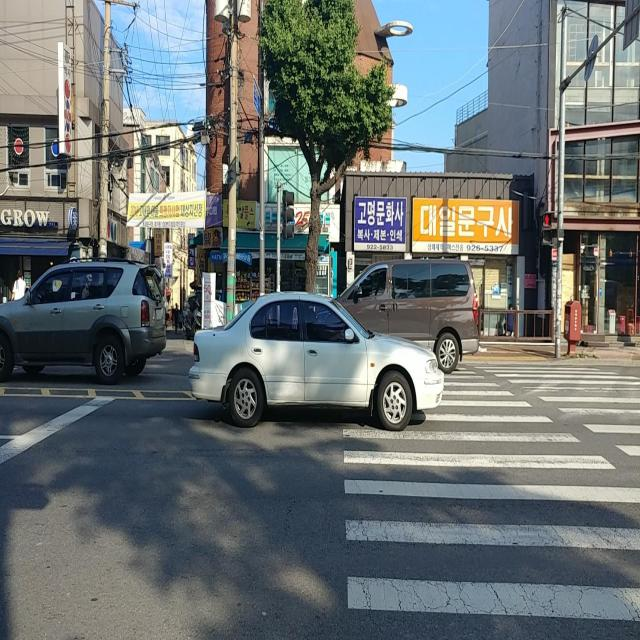빨간불: (541, 211, 553, 246)
횡단보도: (337, 364, 640, 621)
